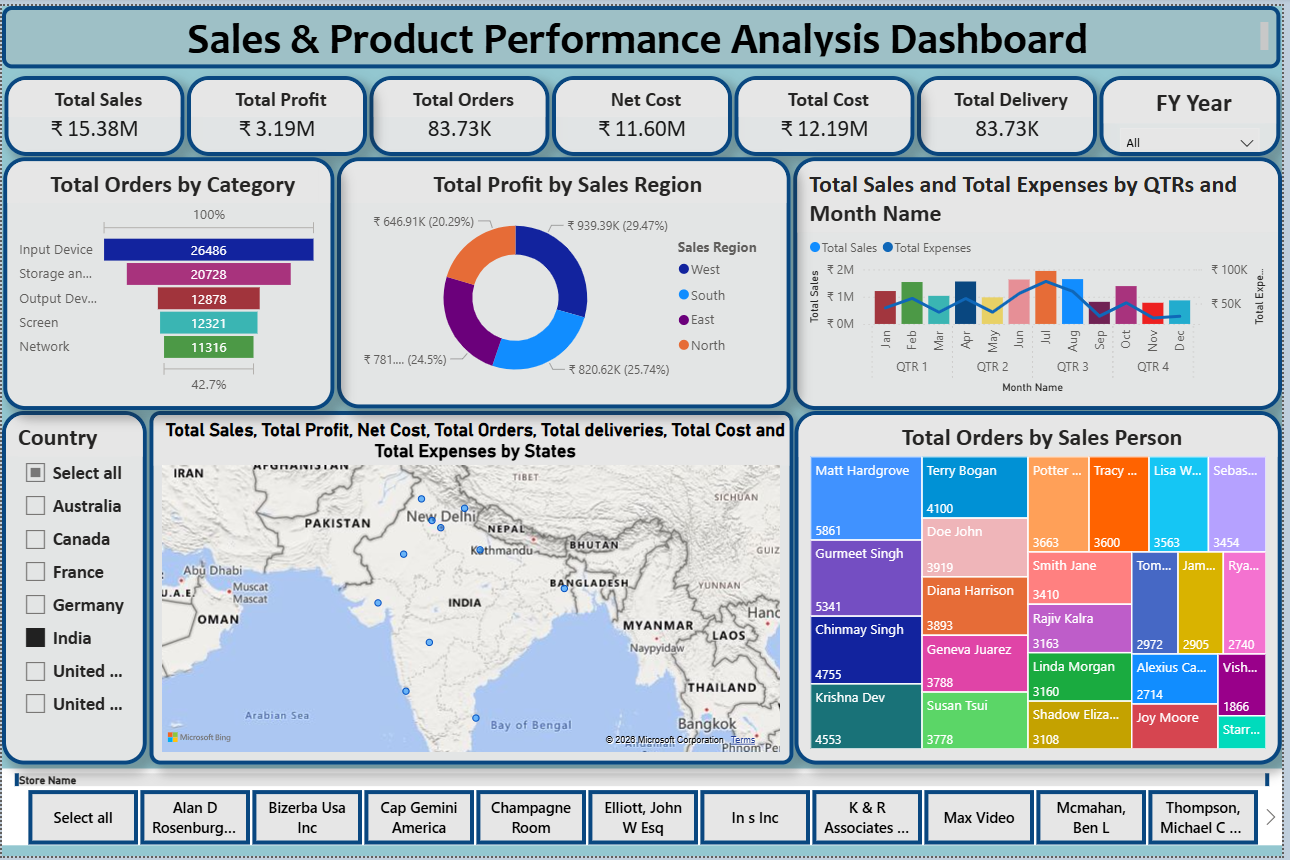

Layout of this report page (visuals, bound fields, positions):
{"tool":"powerbi","page":{"name":"Overview","canvas":[1280,850],"ordinal":0},"visuals":[{"type":"slicer","fields":{"Values":["Store.Store Name"]},"box":[0,762.9,1280,77.1],"z":0},{"type":"card","title":"Total Sales","fields":{"Values":["MyDax Table.Total Sales"]},"box":[1.9,69.4,180,80],"z":1000},{"type":"card","title":"Total Orders","fields":{"Values":["MyDax Table.Total Orders"]},"box":[367,69.4,180,80],"z":2000},{"type":"card","title":"Total Profit","fields":{"Values":["MyDax Table.Total Profit"]},"box":[184.4,69.4,180,80],"z":3000},{"type":"card","title":"Net Cost","fields":{"Values":["MyDax Table.Net Cost"]},"box":[549.6,69.4,180,80],"z":4000},{"type":"card","title":"Total Delivery","fields":{"Values":["MyDax Table.Total deliveries"]},"box":[914.7,69.4,180,80],"z":5000},{"type":"card","title":"Total Cost","fields":{"Values":["MyDax Table.Total Cost"]},"box":[732.1,69.4,180,80],"z":6000},{"type":"slicer","title":"FY Year","fields":{"Values":["Calendar table.Date Hierarchy.Fy Year"]},"box":[1097.2,69.4,181.1,80],"z":7000},{"type":"slicer","title":"Country","fields":{"Values":["Sales Regions.Geo hierarchy.Country"]},"box":[0,404.7,145,353.8],"z":8000},{"type":"map","fields":{"Category":["Sales Regions.Geo hierarchy.States"]},"box":[146.9,404.7,643.8,353.8],"z":9000},{"type":"lineStackedColumnComboChart","fields":{"Category":["Calendar table.Date Hierarchy.QTRs","Calendar table.Date Hierarchy.Month Name"],"Y":["MyDax Table.Total Sales"],"Y2":["MyDax Table.Total Expenses"]},"box":[791.2,151.2,488.8,252.5],"z":10000},{"type":"donutChart","fields":{"Y":["MyDax Table.Total Profit"],"Category":["All record.Sales Region"]},"box":[335,151.2,453.8,251.2],"z":11000},{"type":"funnel","fields":{"Category":["Product Details. Category "],"Y":["MyDax Table.Total Orders"]},"box":[1.2,151.2,331.2,252.5],"z":12000},{"type":"treemap","fields":{"Group":["Employee Details.Sales Person"],"Values":["MyDax Table.Total Orders"]},"box":[792.5,404.7,487.5,353.8],"z":13000},{"type":"textbox","box":[0,0,1278.8,62.5],"z":14000}]}

Visuals, with their boxes in screenshot pixels (x1, y1, x2, y2), scaled from the page's 1280x850 canvas onto the 1290x860 screenshot:
slicer - Store.Store Name: left=0, top=772, right=1289, bottom=850
"Total Sales" card: left=2, top=70, right=183, bottom=151
"Total Orders" card: left=370, top=70, right=551, bottom=151
"Total Profit" card: left=186, top=70, right=367, bottom=151
"Net Cost" card: left=554, top=70, right=735, bottom=151
"Total Delivery" card: left=922, top=70, right=1103, bottom=151
"Total Cost" card: left=738, top=70, right=919, bottom=151
"FY Year" slicer: left=1106, top=70, right=1288, bottom=151
"Country" slicer: left=0, top=409, right=146, bottom=767
map - Sales Regions.Geo hierarchy.States: left=148, top=409, right=797, bottom=767
lineStackedColumnComboChart - Calendar table.Date Hierarchy.QTRs x Calendar table.Date Hierarchy.Month Name: left=797, top=153, right=1289, bottom=408
donutChart - MyDax Table.Total Profit x All record.Sales Region: left=338, top=153, right=795, bottom=407
funnel - Product Details. Category  x MyDax Table.Total Orders: left=1, top=153, right=335, bottom=408
treemap - Employee Details.Sales Person x MyDax Table.Total Orders: left=799, top=409, right=1289, bottom=767
textbox: left=0, top=0, right=1289, bottom=63
